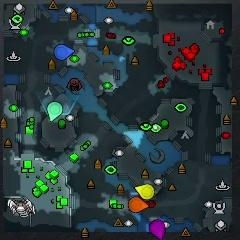p1: (55, 44, 74, 59)
p2: (47, 102, 63, 122)
p3: (149, 219, 165, 240)
p4: (134, 184, 155, 200)
p5: (128, 197, 150, 212)
